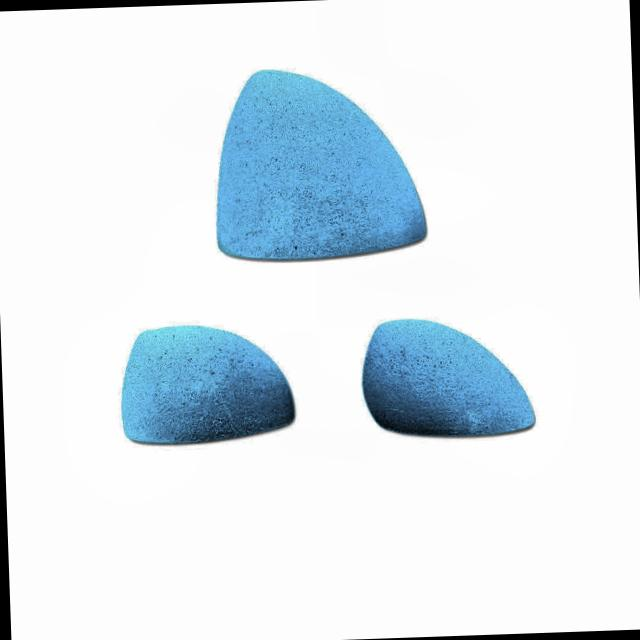Hold: (214, 59, 426, 267), (360, 301, 540, 438), (111, 318, 298, 446)
